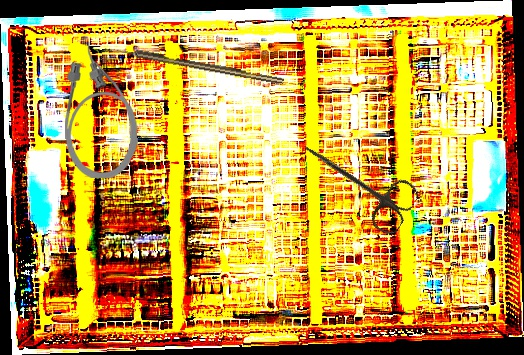Cannula: (63, 41, 139, 179)
Hook Surgical: (109, 44, 285, 86)
Iris Scissors: (288, 125, 423, 239)
